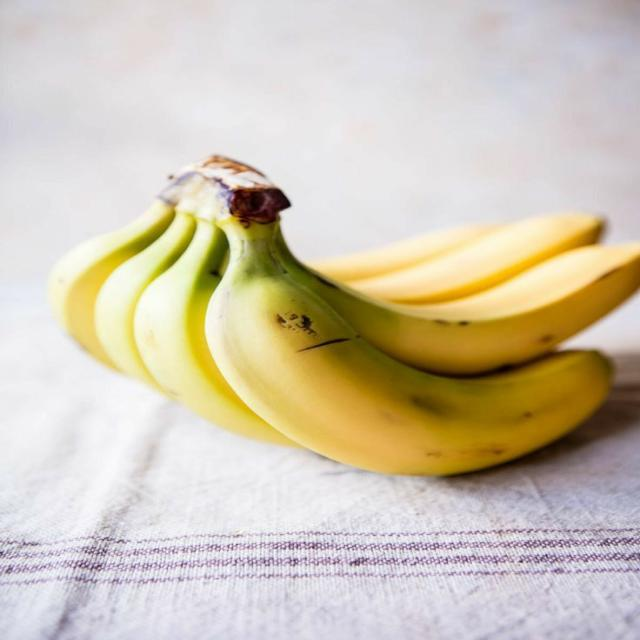unpeal banana: (207, 190, 610, 474), (279, 237, 639, 374), (134, 218, 296, 445), (350, 213, 602, 302), (48, 200, 173, 366), (94, 212, 195, 388), (310, 225, 498, 282)
